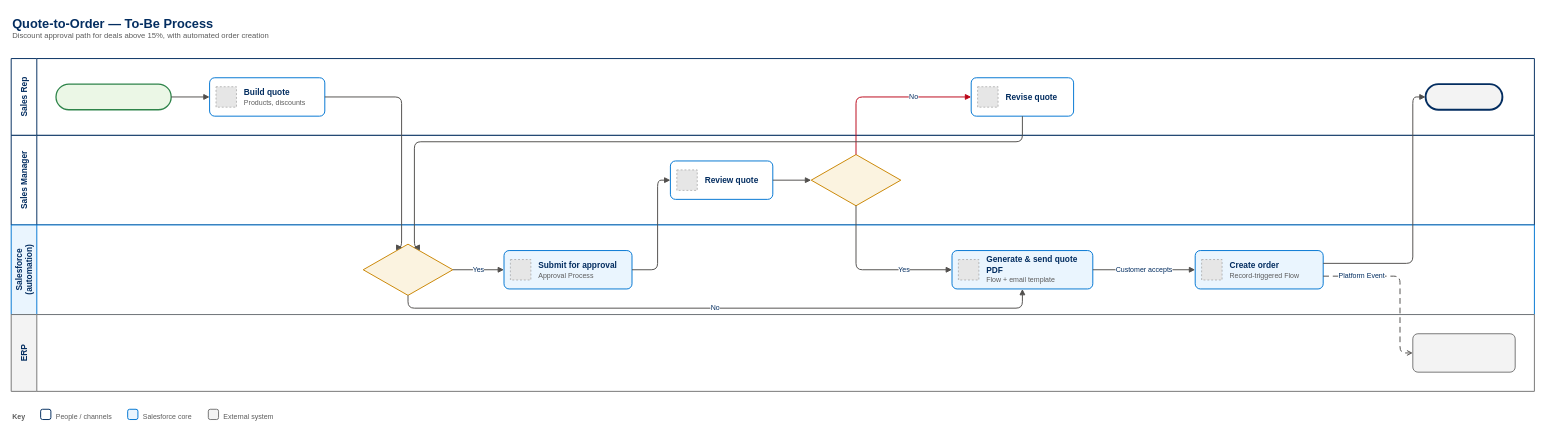
Some shapes in this 1546 by 432 pixel diagram are drawn without their labels. Grey dashed boxes stand in for pictures. The shapes that lost their labels are listed below. From the top down, each one's centre as x and y in pixels, then its label:
At [113,96]: "Opportunity at Proposal".
At [1463,96]: "Closed Won".
At [855,180]: "Approved?".
At [407,269]: "Discount > 15%?".
At [1463,352]: "Fulfil & invoice".
